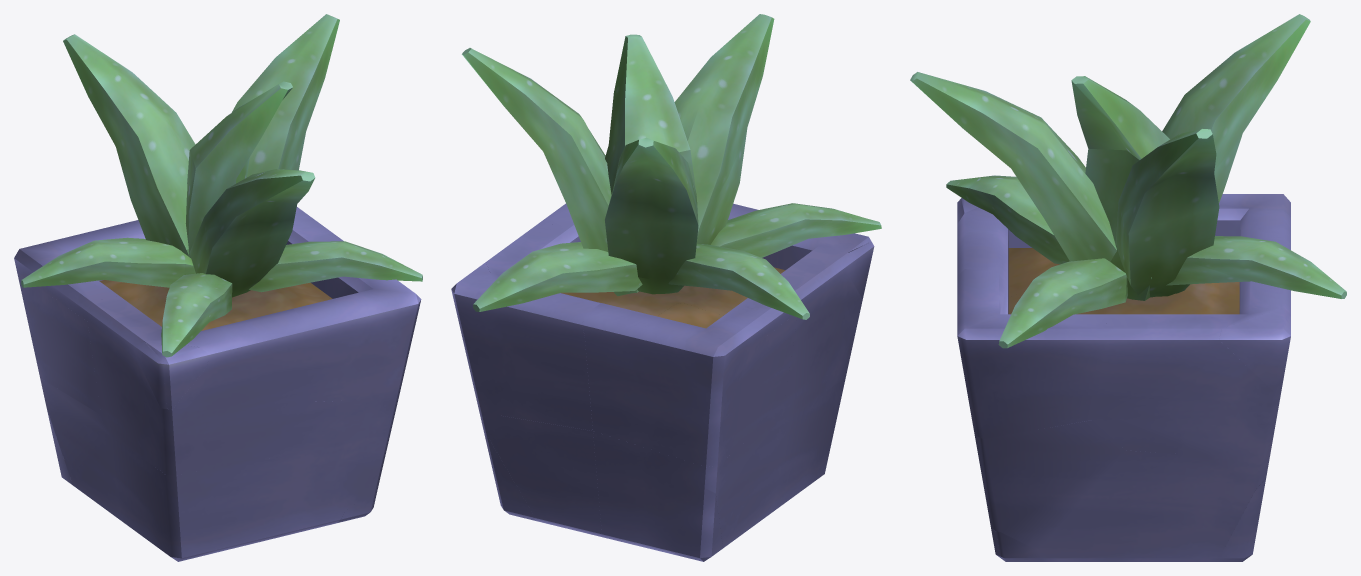
File: Small_Plant_1.fbx
3 views of the same model, side by side, from view 1: azimuth 30°, elevation 25°; view 2: azimuth 150°, elevation 25°; view 3: azimuth 270°, elevation 25° (orthographic). The views are drawn at different scales.
Parts seen in each view (by area): view 1: Small Plant.002, Small Plant.009, Small Plant3.002, Small Plant.005, Small Plant.017, Small Plant3.003, Small Plant3.001, Small Plant.020, Small Plant3.004, Small Plant3.008, Small Plant.013, Small Plant.001 (+11 smaller); view 2: Small Plant.013, Small Plant.008, Small Plant.001, Small Plant3.003, Small Plant3.002, Small Plant3.001, Small Plant.011, Small Plant.010, Small Plant.002, Small Plant3.006, Small Plant3.004, Small Plant3.005 (+10 smaller); view 3: Small Plant.008, Small Plant.005, Small Plant.017, Small Plant.011, Small Plant3.003, Small Plant3.001, Small Plant3.002, Small Plant3.004, Small Plant3.007, Small Plant3.006, Small Plant3.005, Small Plant.018 (+8 smaller).
Part boxes in pixels (left/top/right/bottom): Small Plant.002: left=87, top=322, right=311, bottom=475; Small Plant.009: left=112, top=436, right=270, bottom=561; Small Plant3.002: left=63, top=34, right=195, bottom=256; Small Plant.005: left=293, top=276, right=421, bottom=401; Small Plant.017: left=268, top=394, right=399, bottom=510; Small Plant3.003: left=189, top=169, right=315, bottom=297; Small Plant3.001: left=232, top=14, right=339, bottom=177; Small Plant.020: left=86, top=295, right=307, bottom=367; Small Plant3.004: left=185, top=81, right=292, bottom=257; Small Plant3.008: left=21, top=237, right=195, bottom=287; Small Plant.013: left=17, top=272, right=102, bottom=414; Small Plant.001: left=40, top=378, right=119, bottom=519; Small Plant.013: left=584, top=316, right=796, bottom=467; Small Plant.008: left=463, top=223, right=600, bottom=430; Small Plant.001: left=593, top=409, right=790, bottom=555; Small Plant3.003: left=674, top=14, right=774, bottom=244; Small Plant3.002: left=605, top=137, right=698, bottom=294; Small Plant3.001: left=462, top=48, right=638, bottom=296; Small Plant.011: left=478, top=408, right=606, bottom=538; Small Plant.010: left=582, top=298, right=792, bottom=369; Small Plant.002: left=762, top=253, right=862, bottom=418; Small Plant3.006: left=473, top=242, right=642, bottom=311; Small Plant3.004: left=605, top=34, right=696, bottom=194; Small Plant3.005: left=710, top=203, right=881, bottom=257; Small Plant.008: left=1093, top=281, right=1290, bottom=459; Small Plant.005: left=957, top=269, right=1108, bottom=438; Small Plant.017: left=974, top=420, right=1125, bottom=550; Small Plant.011: left=1124, top=450, right=1269, bottom=561; Small Plant3.003: left=910, top=72, right=1116, bottom=261; Small Plant3.001: left=1115, top=129, right=1219, bottom=297; Small Plant3.002: left=1162, top=14, right=1310, bottom=202; Small Plant3.004: left=1071, top=76, right=1169, bottom=300; Small Plant3.007: left=998, top=258, right=1127, bottom=348; Small Plant3.006: left=1166, top=236, right=1346, bottom=298; Small Plant3.005: left=946, top=175, right=1069, bottom=264; Small Plant.018: left=1038, top=485, right=1124, bottom=561.
Size of the model in its own units: 3.13 by 2.95 by 3.66.
